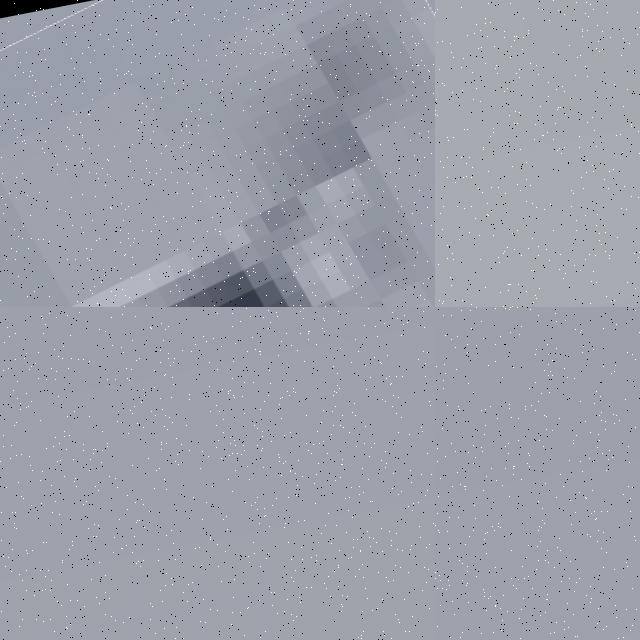drone: (0, 0, 435, 307)
